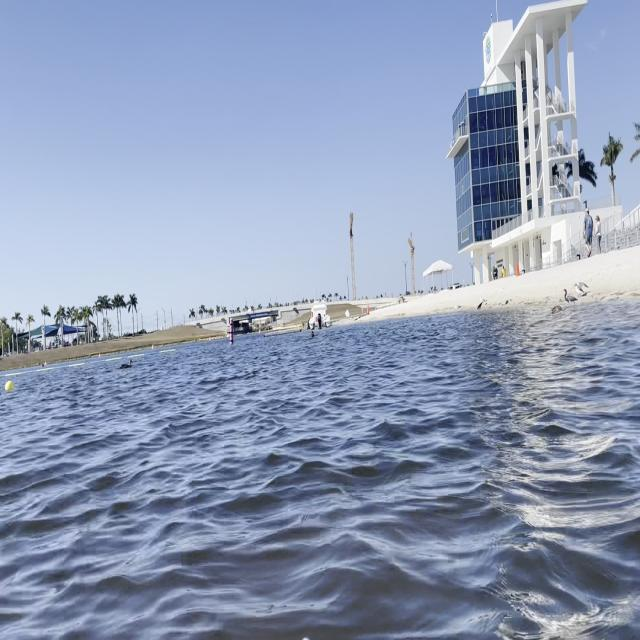buoy: (4, 378, 15, 393)
